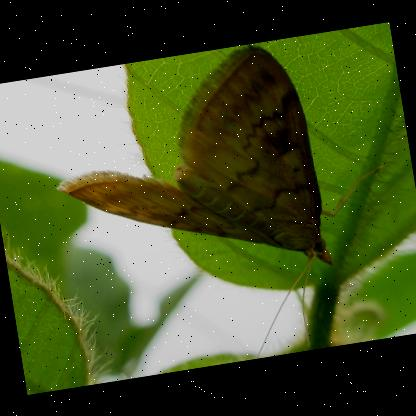Asian Corn Borer Moth: (35, 26, 412, 386)
